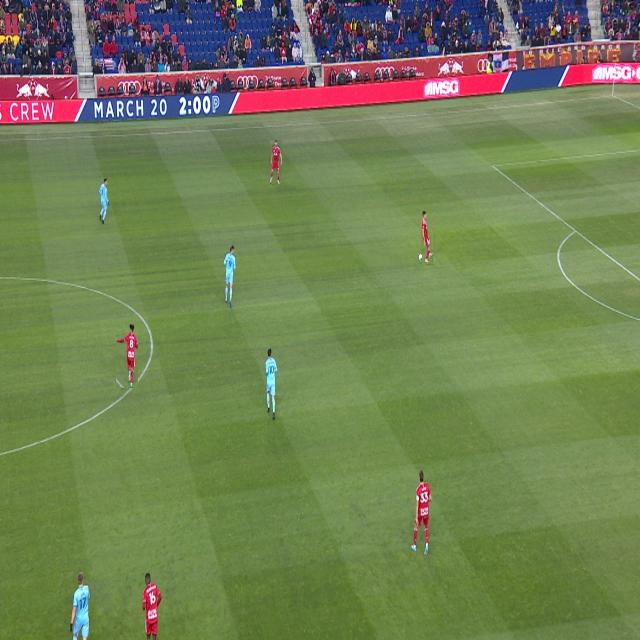football: (419, 254, 422, 261)
player: (411, 470, 432, 556), (116, 325, 138, 388), (70, 573, 90, 640), (142, 573, 162, 640), (265, 348, 277, 421), (224, 246, 236, 308), (422, 212, 433, 263), (270, 140, 282, 184), (99, 178, 110, 224)
